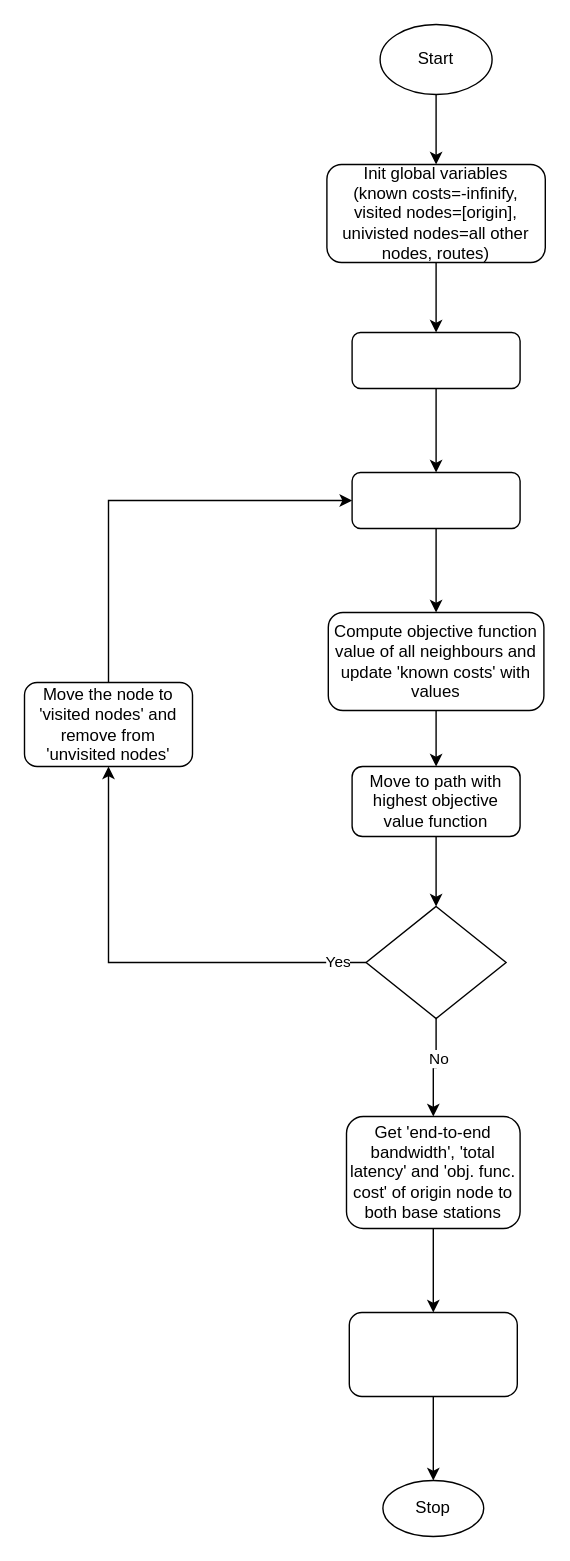
The diagram is 570 pixels wide and 1561 high, and some of its shapes have lost their labels. Here are the shapes that lost their labels. From the top down, the centre of each, then its label:
point (435, 359): Set origin node as position
point (435, 499): Set position as current node
point (435, 961): Are there any unvisited nodes?
point (432, 1353): Select path with lowest 'obj. func. cost' and return
